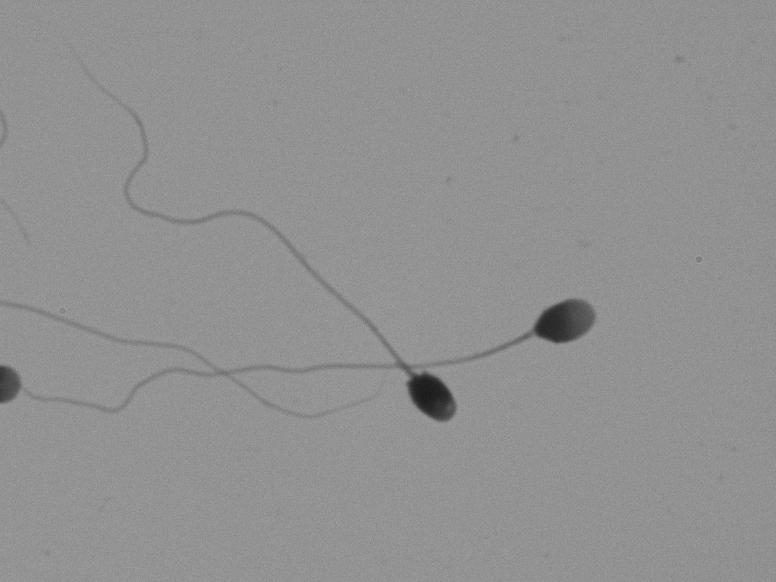Abnormal: (42, 24, 466, 451)
Normal: (437, 262, 654, 372)
